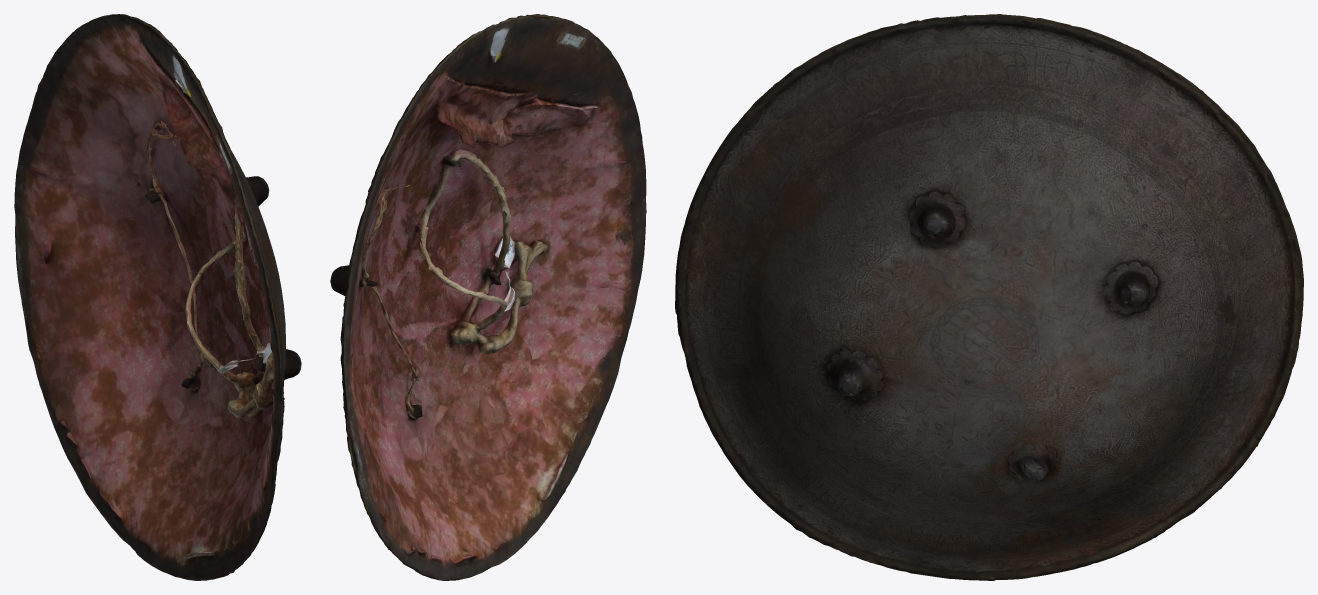
The model's file is qalqan.glb.
The picture shows the model from 3 angles, left to right: view 1: azimuth 30°, elevation 25°; view 2: azimuth 150°, elevation 25°; view 3: azimuth 270°, elevation 25°; orthographic projection. The views are drawn at different scales.
Visible parts, largest first — view 1: Polygon Reduction; view 2: Polygon Reduction; view 3: Polygon Reduction.
Part boxes in pixels (bbox=[...]): Polygon Reduction: bbox=[14, 14, 301, 580]; Polygon Reduction: bbox=[330, 14, 646, 580]; Polygon Reduction: bbox=[675, 14, 1303, 580].
Bounding box in the file's own units: 57.33 × 268 × 264.
Materials: 1 (1 with a texture image).
